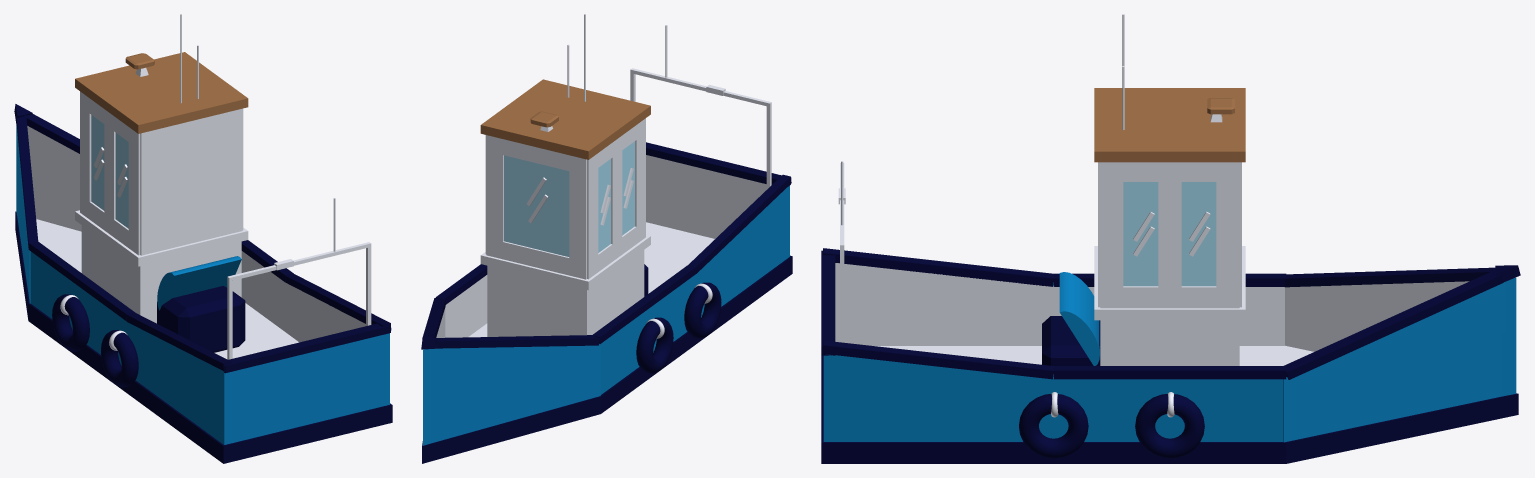
File: SmolBoat.fbx
The picture shows the model from 3 angles, left to right: view 1: azimuth 30°, elevation 25°; view 2: azimuth 150°, elevation 25°; view 3: azimuth 270°, elevation 25°; orthographic projection. The views are drawn at different scales.
Visible parts, largest first — view 1: block (×31), block_bevel, wedge (×3), torus% (×2), arc, blockTriangle (×2); view 2: block (×29), wedge (×2), blockTriangle (×2), torus% (×2); view 3: block (×26), wedge (×4), blockTriangle (×2), torus% (×2), arc, block_bevel.
Part boxes in pixels (bbox=[...]): block (×31): bbox=[16, 52, 392, 463]; block_bevel: bbox=[157, 286, 245, 352]; wedge (×3): bbox=[27, 126, 365, 391]; torus% (×2): bbox=[52, 294, 138, 387]; arc: bbox=[157, 256, 241, 310]; blockTriangle (×2): bbox=[15, 211, 81, 319]; block (×29): bbox=[422, 68, 792, 443]; wedge (×2): bbox=[431, 186, 789, 391]; blockTriangle (×2): bbox=[422, 349, 600, 463]; torus% (×2): bbox=[636, 282, 721, 373]; block (×26): bbox=[821, 88, 1503, 463]; wedge (×4): bbox=[824, 263, 1505, 378]; blockTriangle (×2): bbox=[1286, 277, 1518, 463]; torus% (×2): bbox=[1019, 394, 1204, 458]; arc: bbox=[1059, 272, 1099, 365]; block_bevel: bbox=[1042, 316, 1100, 365].
Size of the model in its own units: 11.9 by 19 by 30.09.
